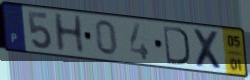0: (94, 18, 121, 57)
4: (128, 21, 151, 63)
5: (26, 10, 54, 51)
D: (161, 24, 192, 67)
H: (51, 11, 87, 55)
X: (191, 27, 227, 73)
